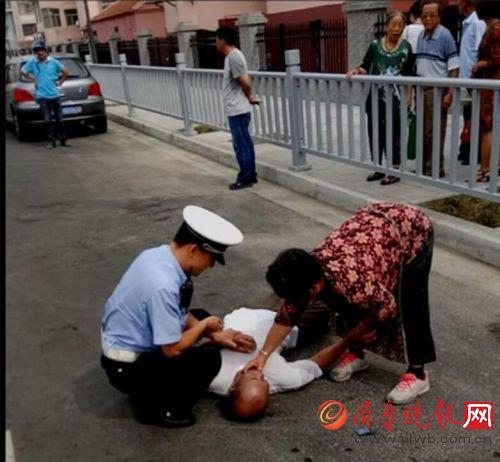bending: (262, 200, 437, 408), (95, 196, 247, 434)
down: (182, 289, 369, 422)
up: (341, 12, 417, 191), (404, 1, 462, 179), (203, 31, 266, 192), (11, 36, 73, 155)
